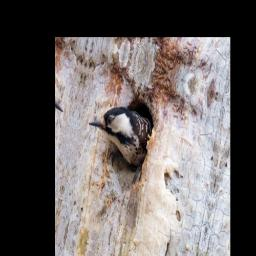Woodpecker: (85, 88, 154, 172)
